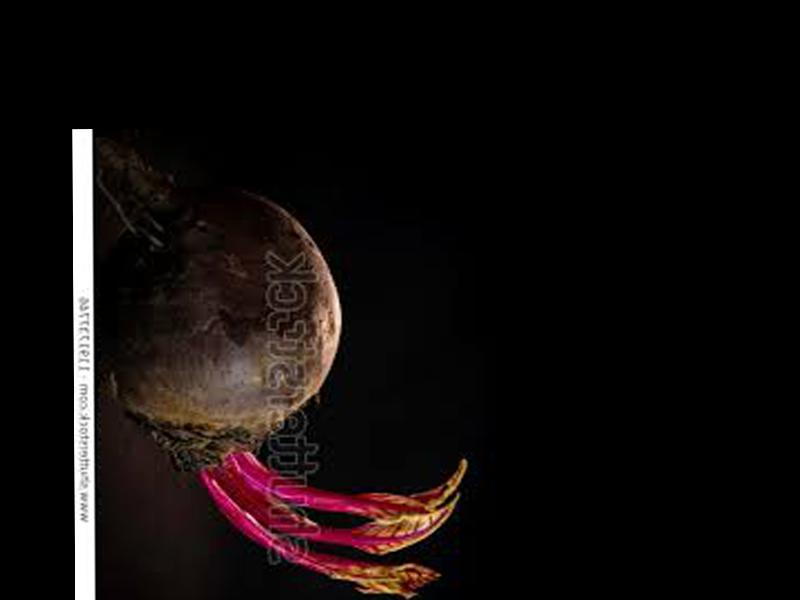Beet: (94, 126, 467, 598)
